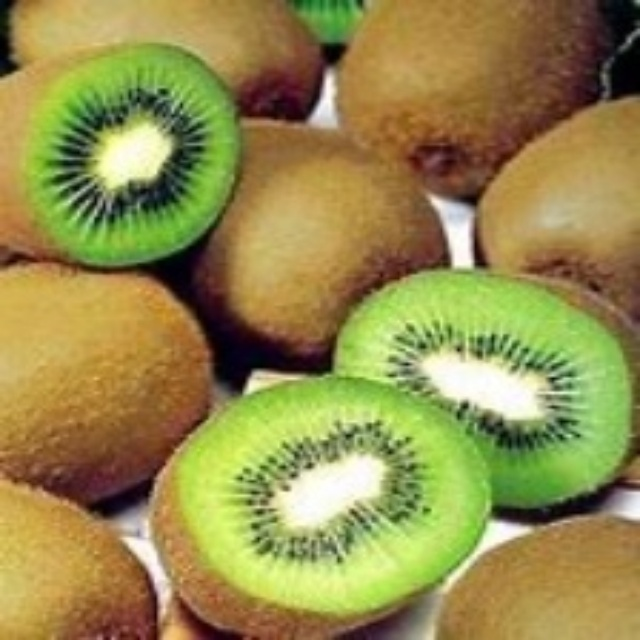kiwi: (130, 391, 498, 628), (337, 279, 639, 503), (189, 119, 443, 346), (2, 251, 212, 505), (7, 55, 238, 272), (336, 2, 583, 184), (468, 102, 639, 315)
